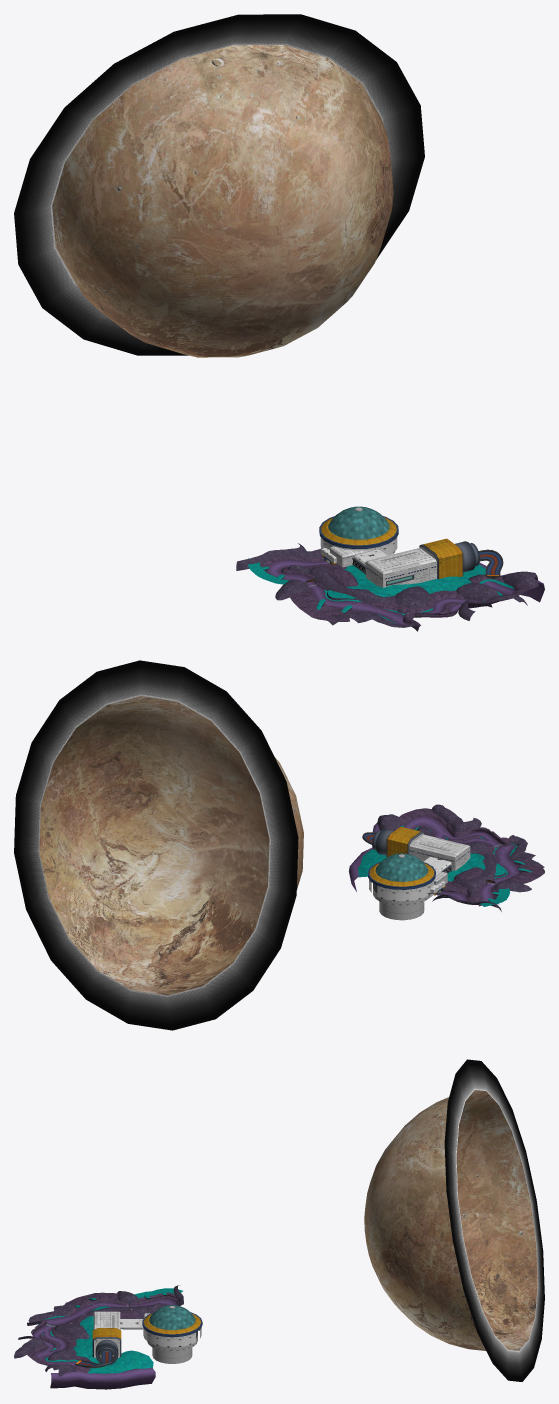
3 views of the same model, one above another, from view 1: azimuth 30°, elevation 25°; view 2: azimuth 150°, elevation 25°; view 3: azimuth 270°, elevation 25° (orthographic). The views are drawn at different scales.
Parts seen in each view (by area): view 1: mars, edgeGlow, terrainRock, rock.005, spaceGrass, dirtRoad, structure02, buildYellow, hexagon, trimParts, tube, structure01; view 2: mars, edgeGlow, terrainRock, rock.005, dirtRoad, structure02, spaceGrass, hexagon, buildYellow, structure01, metalPanel, trimParts (+1 smaller); view 3: mars, edgeGlow, dirtRoad, terrainRock, rock.005, spaceGrass, structure01, hexagon, buildYellow, trimParts, metalPanel, structure02 (+1 smaller).
Part boxes in pixels (<box>): mars: <box>52,45,393,357</box>; edgeGlow: <box>14,14,424,355</box>; terrainRock: <box>236,543,538,627</box>; rock.005: <box>260,556,529,631</box>; spaceGrass: <box>247,558,513,623</box>; dirtRoad: <box>266,560,544,625</box>; structure02: <box>330,546,436,587</box>; buildYellow: <box>321,517,462,578</box>; hexagon: <box>328,506,389,539</box>; trimParts: <box>305,541,503,586</box>; tube: <box>306,516,501,584</box>; structure01: <box>320,537,436,565</box>; mars: <box>39,696,303,995</box>; edgeGlow: <box>14,660,298,1030</box>; terrainRock: <box>377,804,544,911</box>; rock.005: <box>399,808,544,906</box>; dirtRoad: <box>348,816,519,901</box>; structure02: <box>409,834,470,896</box>; spaceGrass: <box>358,825,531,906</box>; hexagon: <box>375,853,428,881</box>; buildYellow: <box>369,826,445,895</box>; structure01: <box>369,833,451,901</box>; metalPanel: <box>379,854,424,920</box>; trimParts: <box>362,829,496,891</box>; mars: <box>364,1090,537,1350</box>; edgeGlow: <box>444,1059,544,1381</box>; dirtRoad: <box>33,1298,176,1389</box>; terrainRock: <box>14,1285,183,1376</box>; rock.005: <box>26,1292,179,1372</box>; spaceGrass: <box>37,1288,182,1373</box>; structure01: <box>94,1319,201,1357</box>; hexagon: <box>149,1305,195,1330</box>; buildYellow: <box>92,1313,200,1338</box>; trimParts: <box>75,1300,129,1367</box>; metalPanel: <box>152,1306,192,1363</box>; structure02: <box>93,1311,150,1329</box>.
Size of the model in its own units: 124258 by 128867 by 199781.
Materials: 25 (25 with a texture image).
